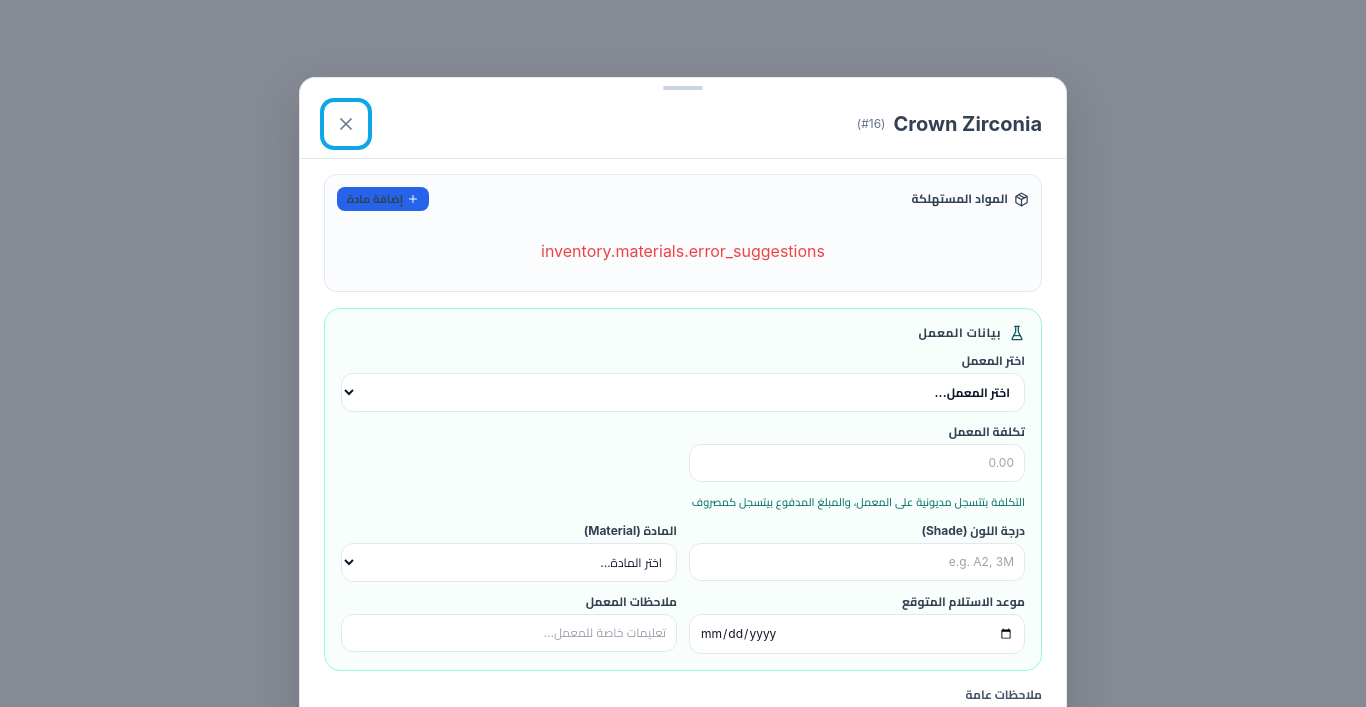
Scenario: QuickTreatmentSheet Lab Cost & Payment UI (L4) › renders lab cost and shows paid_now only when cost > 0 with accounting note
(page scrolled)
Note: Enter cost 600
Type "600" into the number field labelled "تكلفة المعمل" at (857, 463), box [689, 444, 1025, 482]
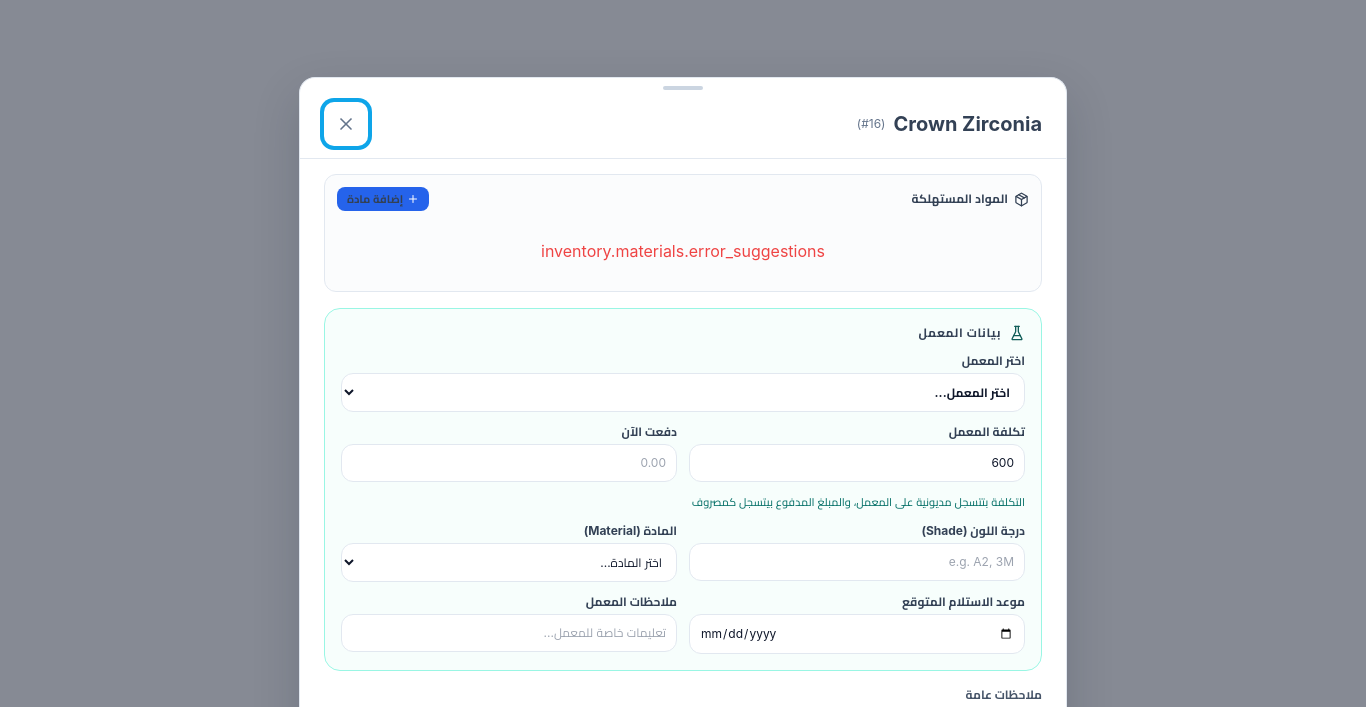
Check: the text "التكلفة بتتسجل مديونية على المعمل" is shown, box [692, 495, 1025, 509]
Check: the number field labelled "دفعت الآن" is shown
Type "700" into the number field labelled "دفعت الآن" at (509, 463), box [341, 444, 677, 482]
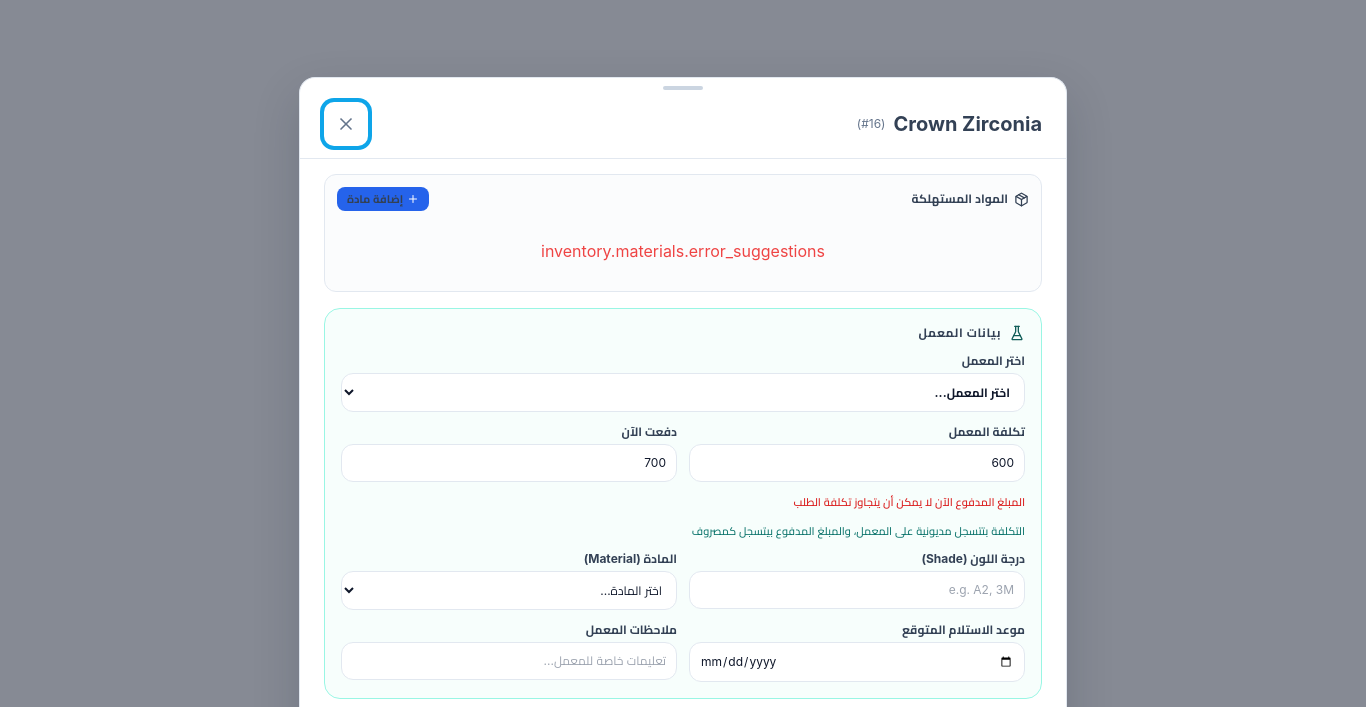
Check: the text "المبلغ المدفوع الآن لا يمكن أن يتجاوز تكلفة الطلب" is shown, box [794, 495, 1025, 509]
